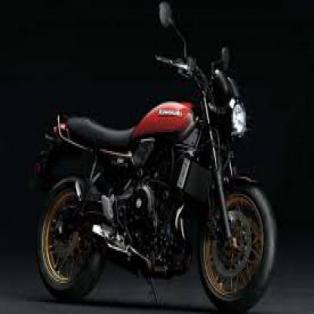Motocicleta: (27, 0, 284, 312)
